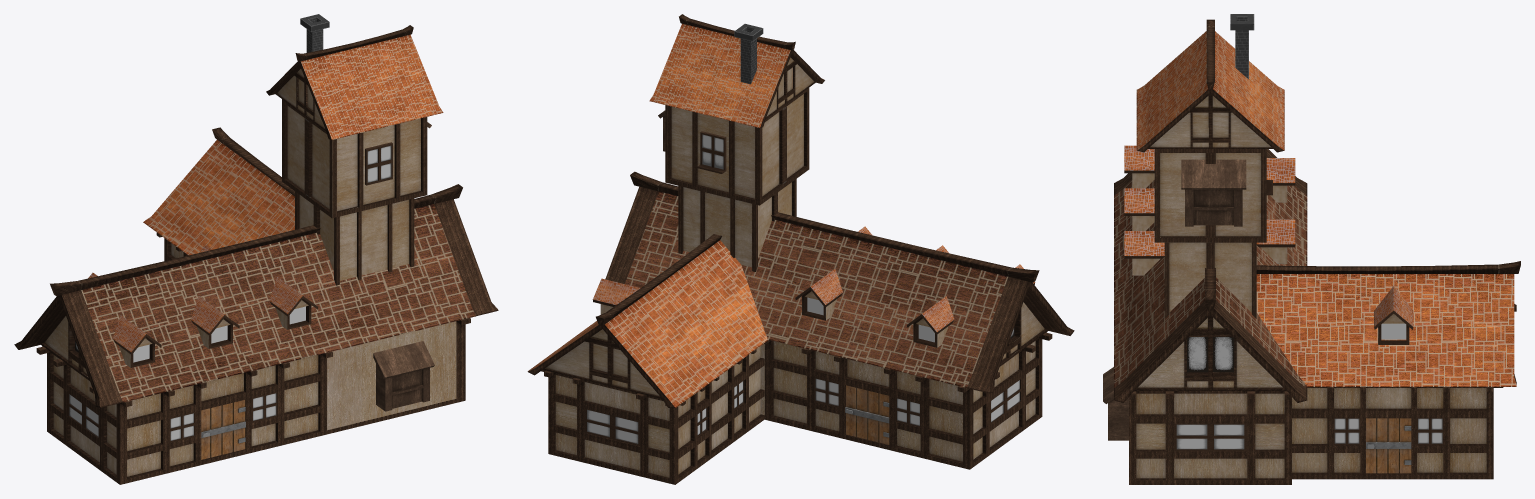
File: House_9.fbx
3 views of the same model, side by side, from view 1: azimuth 30°, elevation 25°; view 2: azimuth 150°, elevation 25°; view 3: azimuth 270°, elevation 25° (orthographic). The views are drawn at different scales.
Visible parts, largest first — view 1: roof4, block5, roof11, roof5, block15, block16, box, door5, roof_window5, roof_window7, roof_window6, window80 (+4 smaller); view 2: roof4, roof5, block5, block6, roof11, block15, block16, door4, roof_window9, window31, roof_window8, Chimney4 (+5 smaller); view 3: roof5, roof4, block6, block5, roof11, block15, block16, box2, door6, window33, roof_window10, roof_window5 (+8 smaller).
Part boxes in pixels (left/top/right/bottom): roof4: left=14, top=184, right=498, bottom=407; block5: left=36, top=316, right=475, bottom=484; roof11: left=266, top=25, right=443, bottom=139; roof5: left=143, top=127, right=294, bottom=255; block15: left=282, top=99, right=427, bottom=218; block16: left=295, top=191, right=414, bottom=285; box: left=373, top=341, right=434, bottom=411; door5: left=201, top=400, right=245, bottom=459; roof_window5: left=269, top=277, right=317, bottom=329; roof_window7: left=113, top=315, right=161, bottom=367; roof_window6: left=191, top=296, right=239, bottom=348; window80: left=365, top=142, right=392, bottom=185; roof4: left=605, top=171, right=1074, bottom=393; roof5: left=527, top=234, right=768, bottom=407; block5: left=760, top=331, right=1052, bottom=469; block6: left=541, top=346, right=764, bottom=484; roof11: left=649, top=14, right=824, bottom=127; block15: left=665, top=88, right=809, bottom=205; block16: left=678, top=179, right=796, bottom=271; door4: left=845, top=385, right=889, bottom=444; roof_window9: left=907, top=296, right=954, bottom=347; window31: left=584, top=408, right=640, bottom=445; roof_window8: left=795, top=269, right=842, bottom=320; Chimney4: left=734, top=23, right=763, bottom=84; roof5: left=1256, top=261, right=1520, bottom=386; roof4: left=1114, top=149, right=1307, bottom=402; block6: left=1292, top=387, right=1503, bottom=479; block5: left=1129, top=391, right=1291, bottom=484; roof11: left=1136, top=19, right=1284, bottom=152; block15: left=1154, top=149, right=1266, bottom=242; block16: left=1164, top=242, right=1256, bottom=318; box2: left=1181, top=159, right=1246, bottom=226; door6: left=1366, top=418, right=1411, bottom=473; window33: left=1174, top=423, right=1247, bottom=451; roof_window10: left=1374, top=286, right=1413, bottom=344; roof_window5: left=1124, top=231, right=1164, bottom=275.
Bounding box in the file's own units: 22.57 × 19.42 × 17.87.
